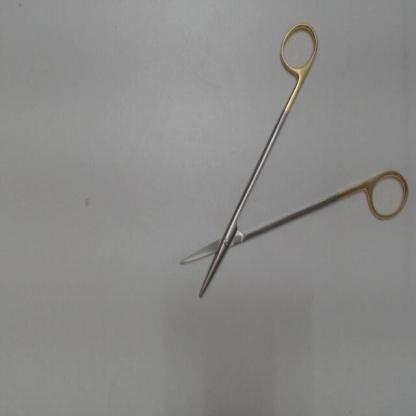7 Metzenbaum Scissors: (176, 19, 412, 304)
